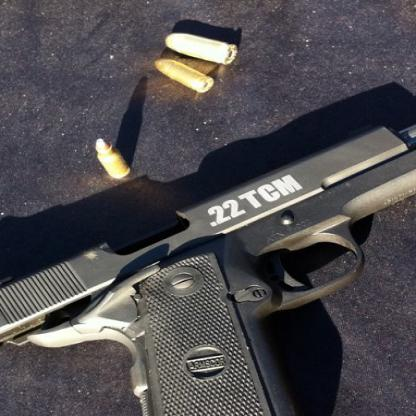gun: (0, 92, 415, 415)
